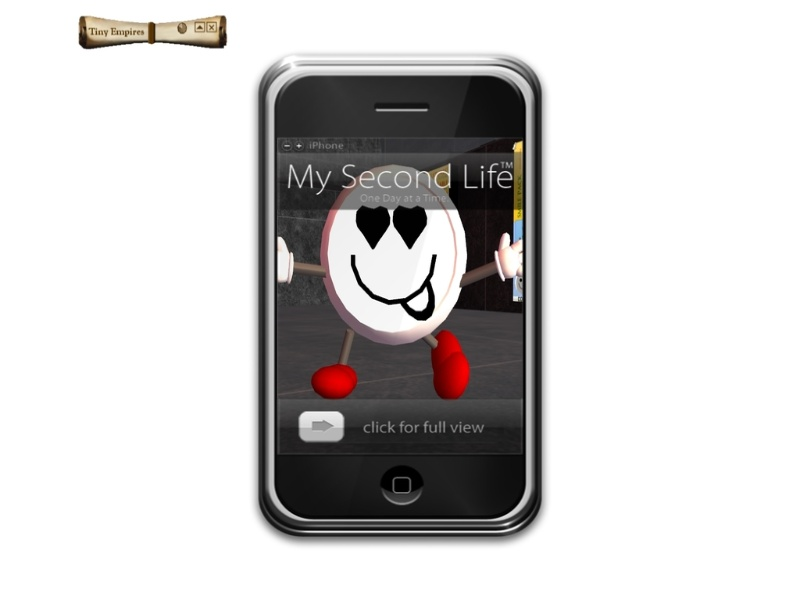cellphone: (252, 52, 550, 542)
